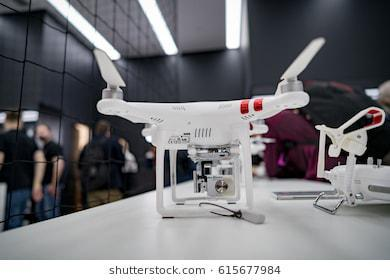drone: (85, 36, 330, 237)
